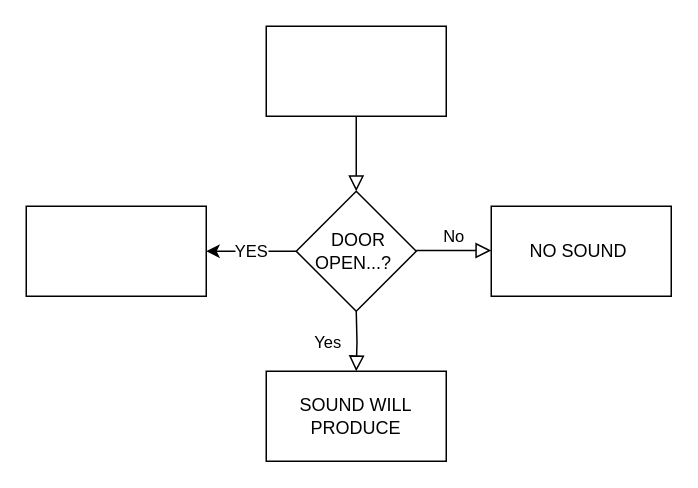
The diagram is 698 pixels wide and 488 high, and some of its shapes have lost their labels. The centre of each missing label's shape, as x and y in pixels:
"LED WILL GLOW" goes at point (115, 250).
"START" goes at point (355, 70).
